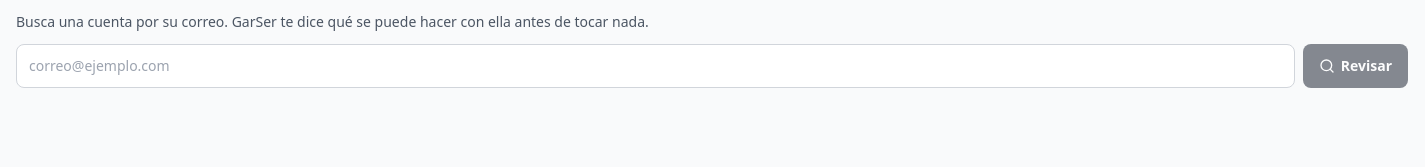
it: Dar de baja o suspender una cuenta (F6) › si no existe lo dice
This screenshot has width=1425, height=167.
Type "nadie@x.es" into the field named "Correo de la cuenta" at coordinates (655, 66), box [16,44,1295,88]
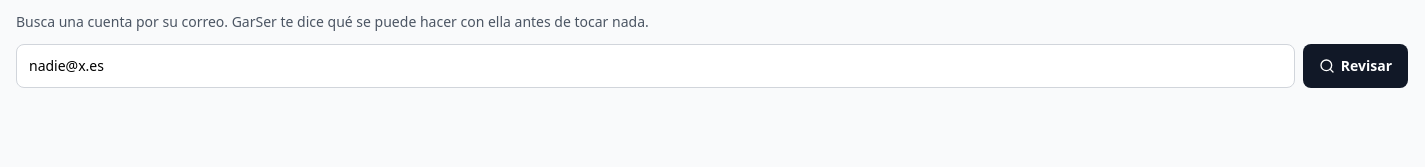
Click the button "Revisar" at coordinates (1355, 66), box [1303,44,1408,88]
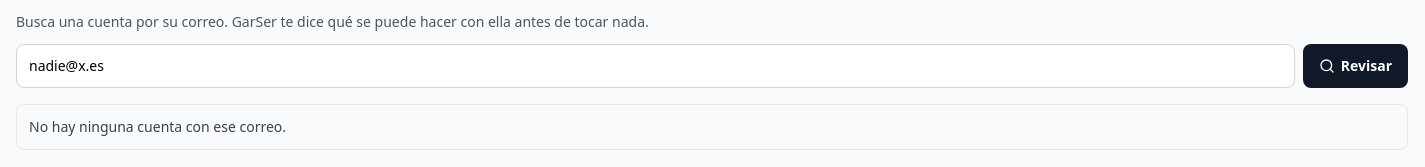
Expected: the text "No hay ninguna cuenta con ese correo." is shown, [16,104,1408,150]
